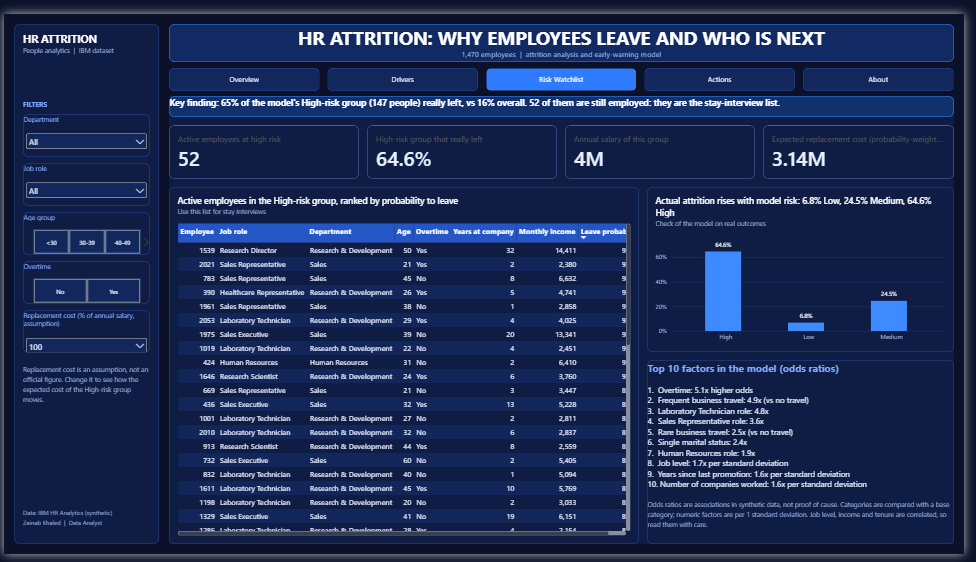

Layout of this report page (visuals, bound fields, positions):
{"tool":"powerbi","page":{"name":"Dashboard","canvas":[1920,1080],"ordinal":1},"visuals":[{"type":"textbox","box":[330,164,1570,42],"z":10,"group":"g1"},{"type":"barChart","title":"Sales and HR lose about 1 in 5 employees, R&D about 1 in 7","fields":{"Category":["HR.Department"],"Y":["HR.Attrition Rate"]},"box":[330,346,540,330],"z":10,"group":"g1"},{"type":"donutChart","title":"Share of employees who left","fields":{"Category":["HR.Attrition"],"Y":["HR.Total Employees"]},"box":[886,346,460,330],"z":11,"group":"g1"},{"type":"clusteredColumnChart","title":"Employees by model risk level","fields":{"Category":["HR.RiskLevel"],"Y":["HR.Total Employees"]},"box":[1362,346,538,330],"z":12,"group":"g1"},{"type":"tableEx","title":"Sales Representatives leave at 39.8% (83 people); most other roles stay below 20%","fields":{"Values":["HR.JobRole","HR.Total Employees","HR.Attrition Count","HR.Attrition Rate"]},"box":[330,692,940,368],"z":13,"group":"g1"},{"type":"clusteredColumnChart","title":"Those who left earned about 30% less (4,787 vs 6,833 a month)","fields":{"Category":["HR.Attrition"],"Y":["HR.Avg Monthly Income"]},"box":[1286,692,614,368],"z":14,"group":"g1"},{"type":"textbox","box":[20,20,290,1040],"z":40},{"type":"textbox","box":[38,34,254,64],"z":60},{"type":"textbox","box":[38,170,254,24],"z":62},{"type":"slicer","title":"Department","fields":{"Values":["HR.Department"]},"box":[38,200,254,86],"z":70},{"type":"slicer","title":"Job role","fields":{"Values":["HR.JobRole"]},"box":[38,298,254,86],"z":71},{"type":"slicer","title":"Age group","fields":{"Values":["HR.AgeGroup"]},"box":[38,396,254,86],"z":72},{"type":"slicer","title":"Overtime","fields":{"Values":["HR.OverTime"]},"box":[38,494,254,86],"z":73},{"type":"slicer","title":"Replacement cost (% of annual salary, assumption)","fields":{"Values":["Replacement Cost.Replacement Cost"]},"box":[38,592,254,86],"z":74},{"type":"textbox","box":[38,700,254,170],"z":75},{"type":"textbox","box":[38,985,254,60],"z":76},{"type":"textbox","box":[330,20,1570,76],"z":100},{"type":"cardVisual","fields":{"Data":["HR.Total Employees"]},"box":[330,222,248,108],"z":100,"group":"g1"},{"type":"cardVisual","fields":{"Data":["HR.Attrition Count"]},"box":[594,222,248,108],"z":101,"group":"g1"},{"type":"cardVisual","fields":{"Data":["HR.Attrition Rate"]},"box":[858,222,248,108],"z":102,"group":"g1"},{"type":"cardVisual","fields":{"Data":["HR.Avg Monthly Income"]},"box":[1122,222,248,108],"z":103,"group":"g1"},{"type":"cardVisual","fields":{"Data":["HR.Avg Tenure (Years)"]},"box":[1386,222,248,108],"z":104,"group":"g1"},{"type":"cardVisual","fields":{"Data":["HR.High Risk (Active)"]},"box":[1650,222,250,108],"z":105,"group":"g1"},{"type":"bookmarkNavigator","box":[330,108,1570,46],"z":200},{"type":"group","id":"g1","title":"V1 Overview","box":[330,164,1570,896],"z":1000}]}

Visuals, with their boxes in screenshot pixels (x1, y1, x2, y2), scaled from the page's 1920x1080 canvas onto the 976x562 screenshot:
textbox: {"left": 168, "top": 85, "right": 966, "bottom": 107}
"Sales and HR lose about 1 in 5 employees, R&D about 1 in 7" barChart: {"left": 168, "top": 180, "right": 442, "bottom": 352}
"Share of employees who left" donutChart: {"left": 450, "top": 180, "right": 684, "bottom": 352}
"Employees by model risk level" clusteredColumnChart: {"left": 692, "top": 180, "right": 966, "bottom": 352}
"Sales Representatives leave at 39.8% (83 people); most other roles stay below 20%" tableEx: {"left": 168, "top": 360, "right": 646, "bottom": 552}
"Those who left earned about 30% less (4,787 vs 6,833 a month)" clusteredColumnChart: {"left": 654, "top": 360, "right": 966, "bottom": 552}
textbox: {"left": 10, "top": 10, "right": 158, "bottom": 552}
textbox: {"left": 19, "top": 18, "right": 148, "bottom": 51}
textbox: {"left": 19, "top": 88, "right": 148, "bottom": 101}
"Department" slicer: {"left": 19, "top": 104, "right": 148, "bottom": 149}
"Job role" slicer: {"left": 19, "top": 155, "right": 148, "bottom": 200}
"Age group" slicer: {"left": 19, "top": 206, "right": 148, "bottom": 251}
"Overtime" slicer: {"left": 19, "top": 257, "right": 148, "bottom": 302}
"Replacement cost (% of annual salary, assumption)" slicer: {"left": 19, "top": 308, "right": 148, "bottom": 353}
textbox: {"left": 19, "top": 364, "right": 148, "bottom": 453}
textbox: {"left": 19, "top": 513, "right": 148, "bottom": 544}
textbox: {"left": 168, "top": 10, "right": 966, "bottom": 50}
cardVisual - HR.Total Employees: {"left": 168, "top": 116, "right": 294, "bottom": 172}
cardVisual - HR.Attrition Count: {"left": 302, "top": 116, "right": 428, "bottom": 172}
cardVisual - HR.Attrition Rate: {"left": 436, "top": 116, "right": 562, "bottom": 172}
cardVisual - HR.Avg Monthly Income: {"left": 570, "top": 116, "right": 696, "bottom": 172}
cardVisual - HR.Avg Tenure (Years): {"left": 705, "top": 116, "right": 831, "bottom": 172}
cardVisual - HR.High Risk (Active): {"left": 839, "top": 116, "right": 966, "bottom": 172}
bookmarkNavigator: {"left": 168, "top": 56, "right": 966, "bottom": 80}
"V1 Overview" group: {"left": 168, "top": 85, "right": 966, "bottom": 552}
